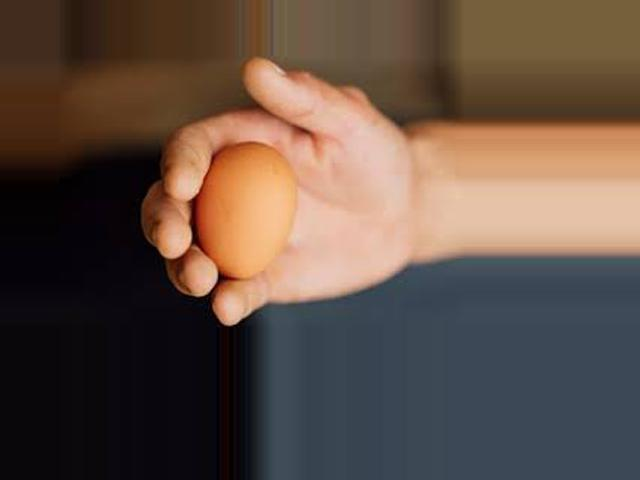egg: (197, 143, 295, 280)
